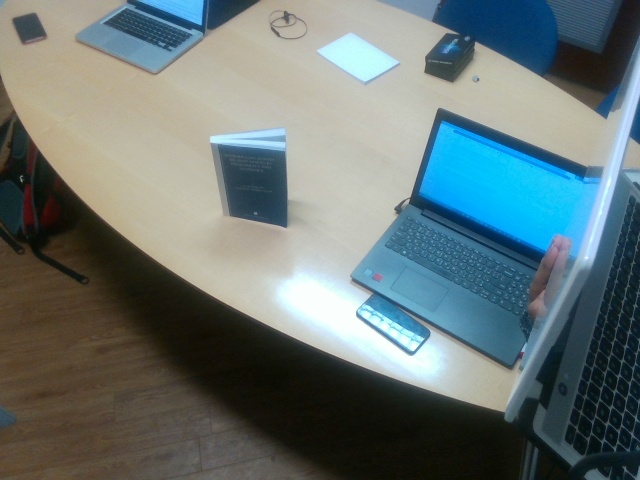book: (210, 131, 290, 228)
